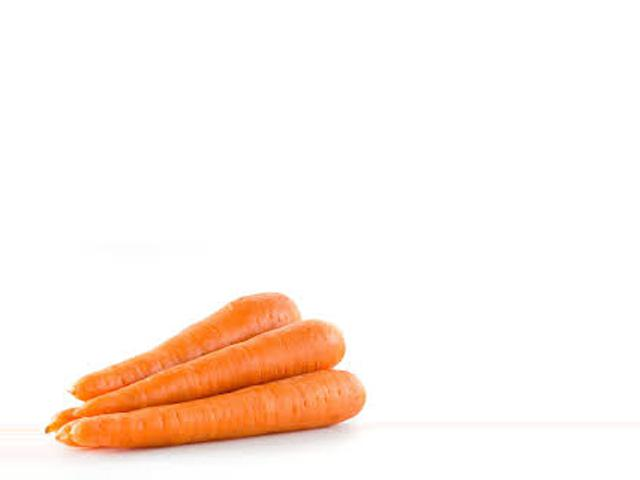carrot: (55, 368, 375, 464)
